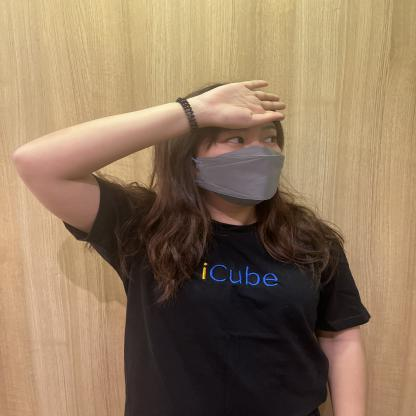Sick: (101, 48, 314, 145)
